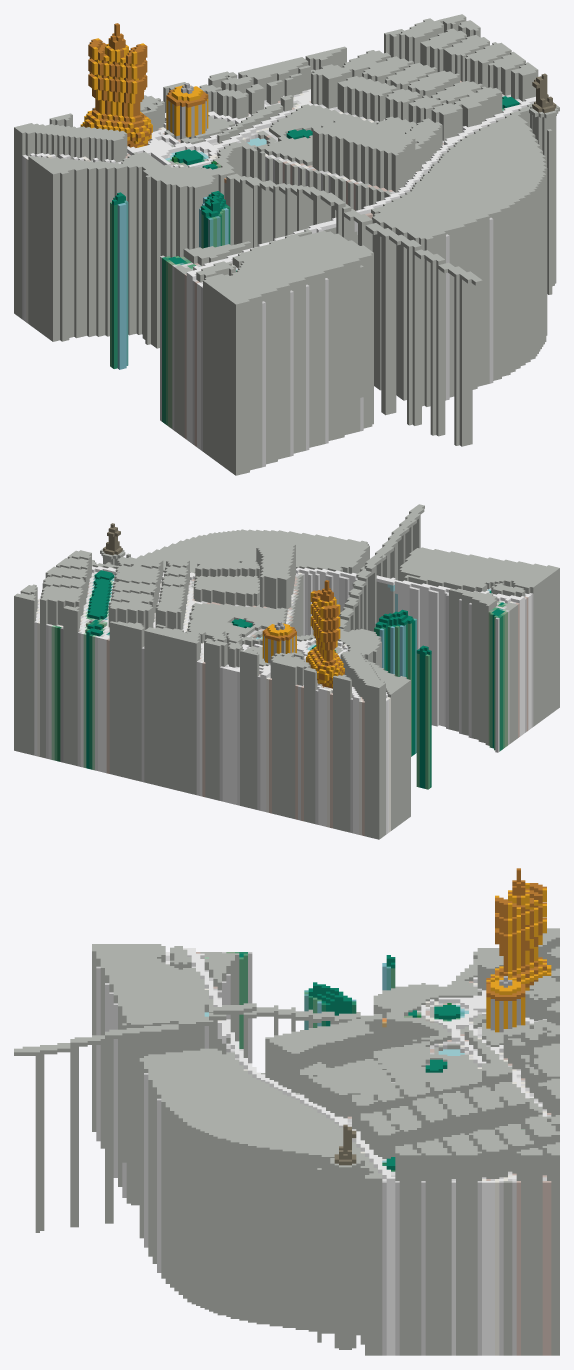
Rendered from 200610 magicvoxel1-8.obj.
3 renders of one model, top to bottom at view 1: azimuth 30°, elevation 25°; view 2: azimuth 150°, elevation 25°; view 3: azimuth 270°, elevation 25°, orthographic. The views are drawn at different scales.
Bounding box in the file's own units: 12.6 × 7.6 × 12.6.
1 material, 1 textured.
